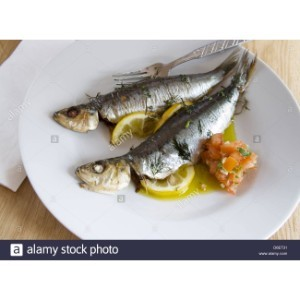sardine_brain food: (54, 55, 263, 195)
